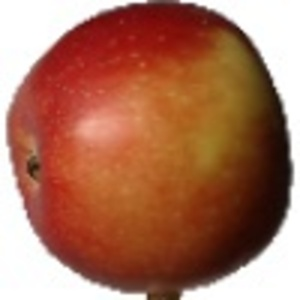maçã braeburn: (2, 3, 292, 291)
